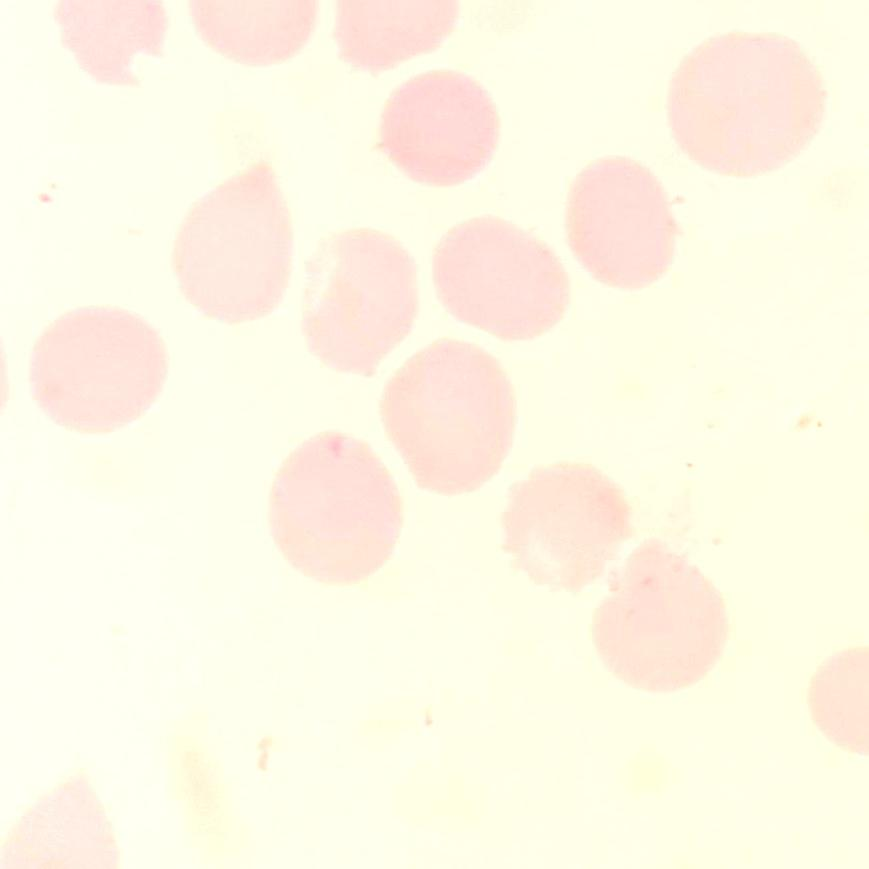Uninfected: (670, 26, 823, 166), (290, 226, 428, 380), (588, 541, 723, 693), (265, 431, 405, 575), (378, 346, 510, 498), (165, 156, 283, 315), (430, 206, 565, 340), (30, 306, 167, 436), (500, 456, 630, 580), (377, 63, 497, 189), (565, 156, 673, 289)
